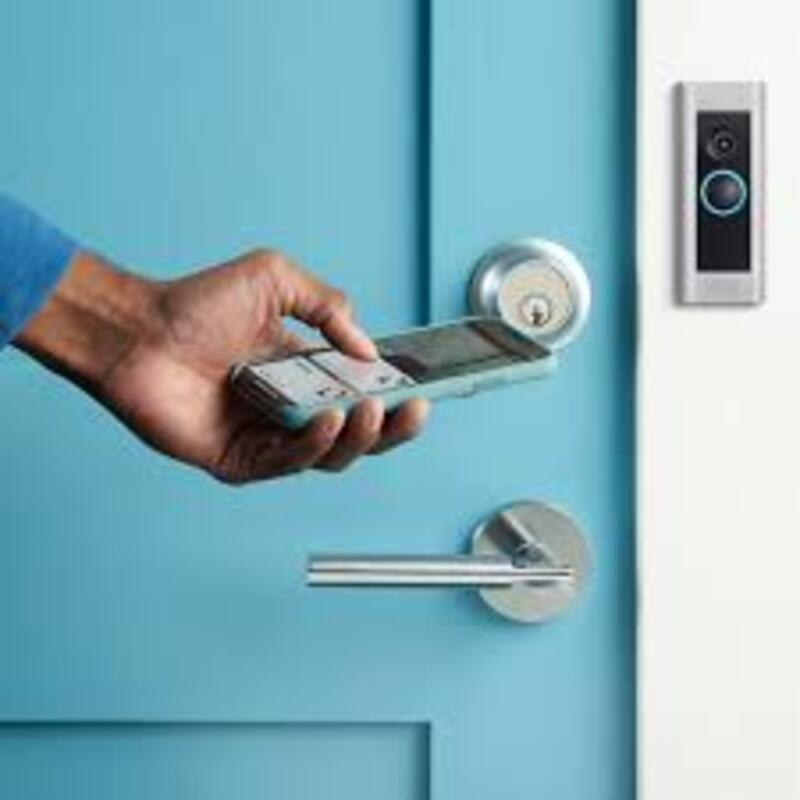doorbell: (678, 77, 764, 306)
